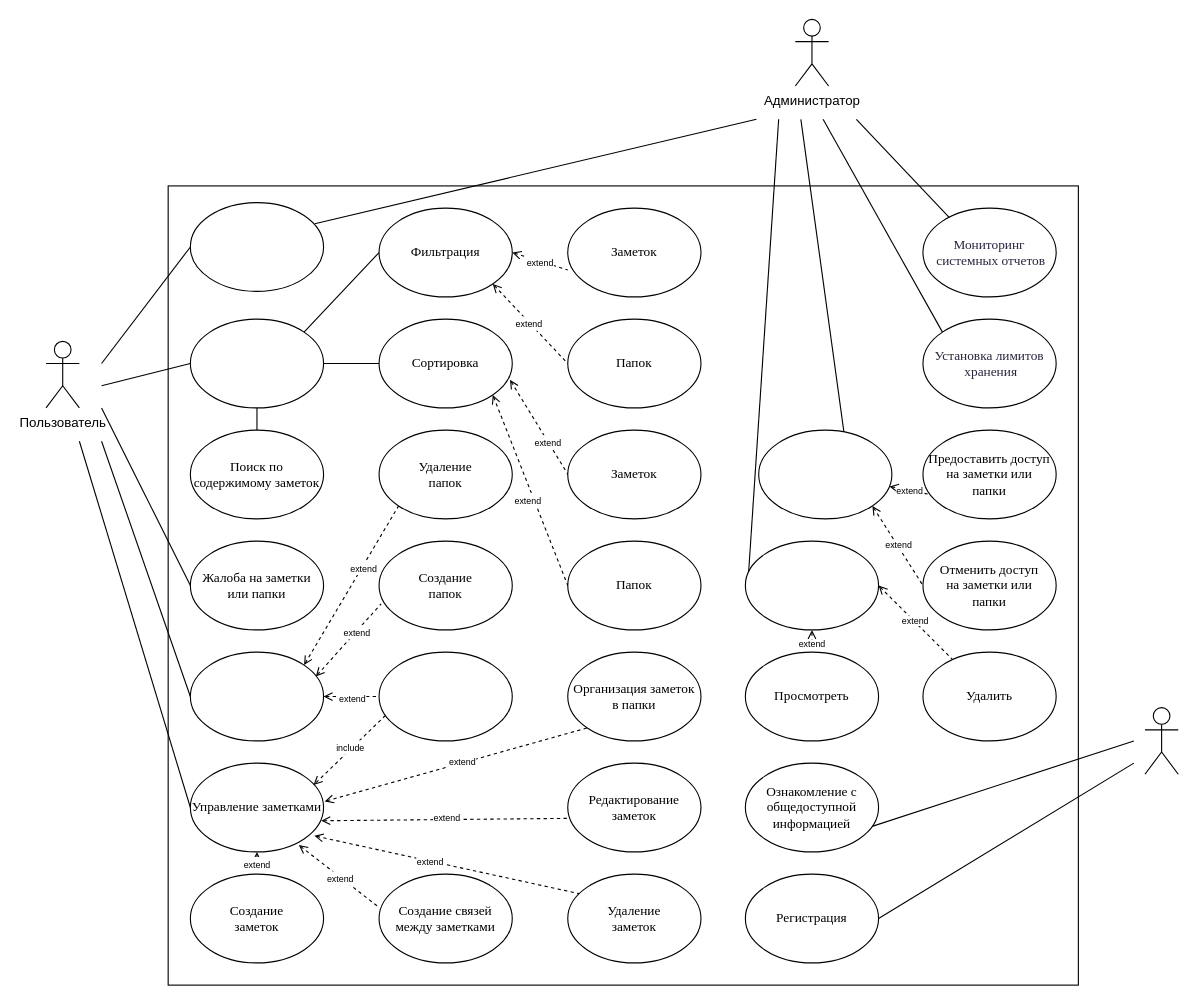
The diagram is 1198 pixels wide and 1005 high, and some of its shapes have lost their labels. Each missing label, with the centre of its shape:
"Авторизация" belongs at pixel 256 246.
"Гость" belongs at pixel 1161 740.
"Просмотр заметок" belongs at pixel 256 363.
"Рассмотрение заметок или папок по жалобам" belongs at pixel 811 585.
"Редактирование папок" belongs at pixel 445 696.
"Управление папками" belongs at pixel 256 696.
"Управление правами на общие ресурсы" belongs at pixel 825 474.
